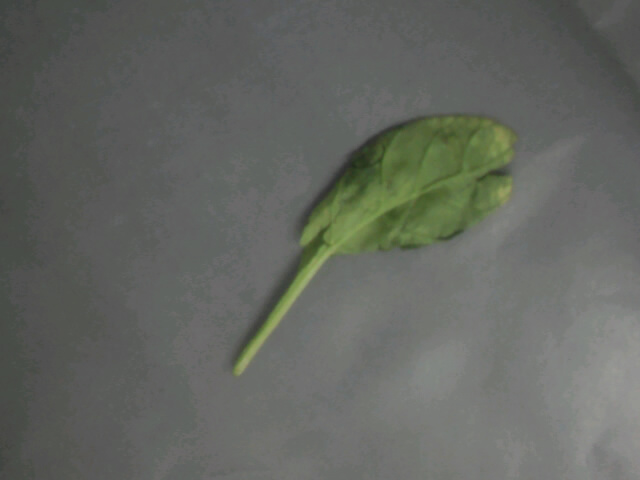yellow: (245, 114, 526, 284)
